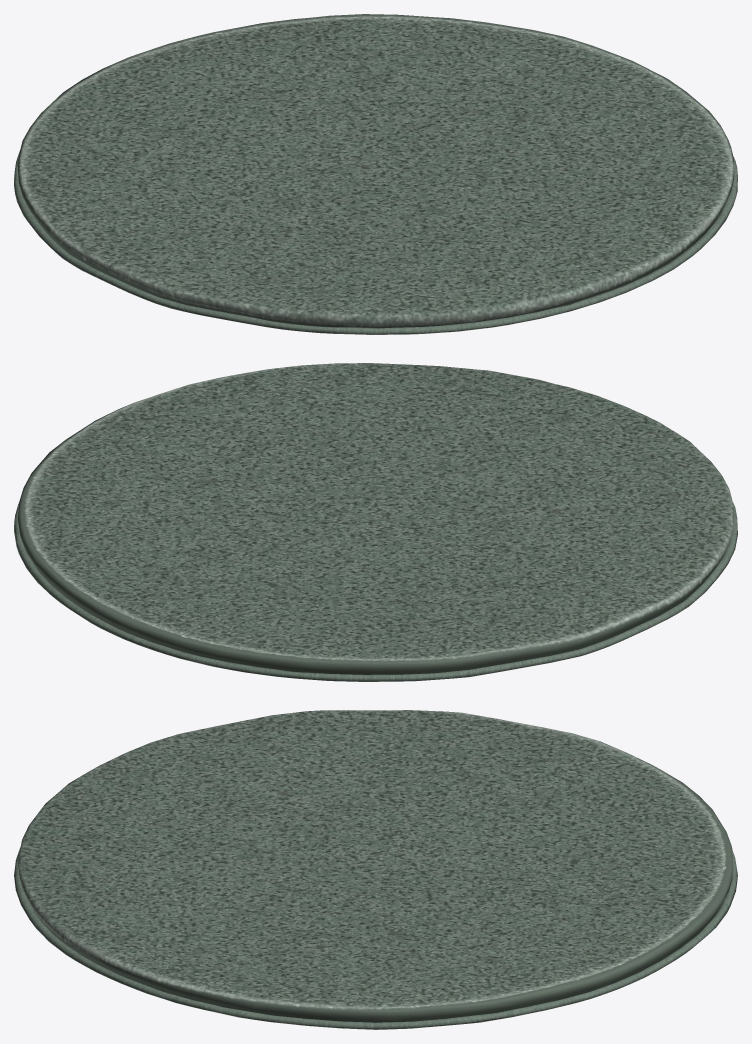
3 views of the same model, one above another, from view 1: azimuth 30°, elevation 25°; view 2: azimuth 150°, elevation 25°; view 3: azimuth 270°, elevation 25° (orthographic).
Parts seen in each view (by area): view 1: ASY_ART_20629132_S01_NV01; view 2: ASY_ART_20629132_S01_NV01; view 3: ASY_ART_20629132_S01_NV01.
Part boxes in pixels (x1=…): ASY_ART_20629132_S01_NV01: x1=14, y1=14, x2=737, y2=334; ASY_ART_20629132_S01_NV01: x1=14, y1=363, x2=737, y2=681; ASY_ART_20629132_S01_NV01: x1=14, y1=710, x2=737, y2=1029.
Bounding box in the file's own units: 0.6968 × 0.0221 × 0.6976.
1 material, 1 textured.
